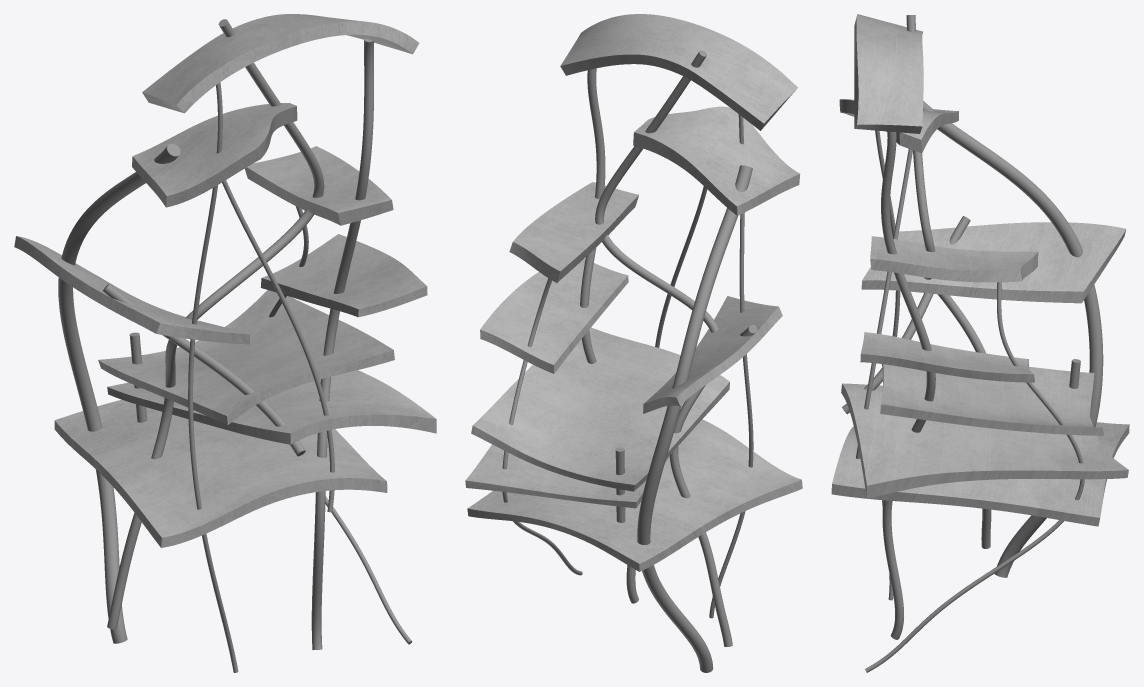
Rendered from jack-the-lad-xx-OG-v9.glb.
3 views of the same model, side by side, from view 1: azimuth 30°, elevation 25°; view 2: azimuth 150°, elevation 25°; view 3: azimuth 270°, elevation 25° (orthographic). The views are drawn at different scales.
Parts seen in each view (by area): view 1: Merged Objects 10, Merged Objects 8; view 2: Merged Objects 10, Merged Objects 8; view 3: Merged Objects 10, Merged Objects 8.
Part boxes in pixels (bbox=[...]): Merged Objects 10: bbox=[14, 14, 436, 547]; Merged Objects 8: bbox=[58, 19, 412, 672]; Merged Objects 10: bbox=[465, 14, 802, 571]; Merged Objects 8: bbox=[502, 50, 757, 672]; Merged Objects 10: bbox=[831, 14, 1129, 526]; Merged Objects 8: bbox=[839, 15, 1103, 672].
Size of the model in its own units: 0.529 by 1.15 by 0.5269.
Materials: 2 (1 with a texture image).
